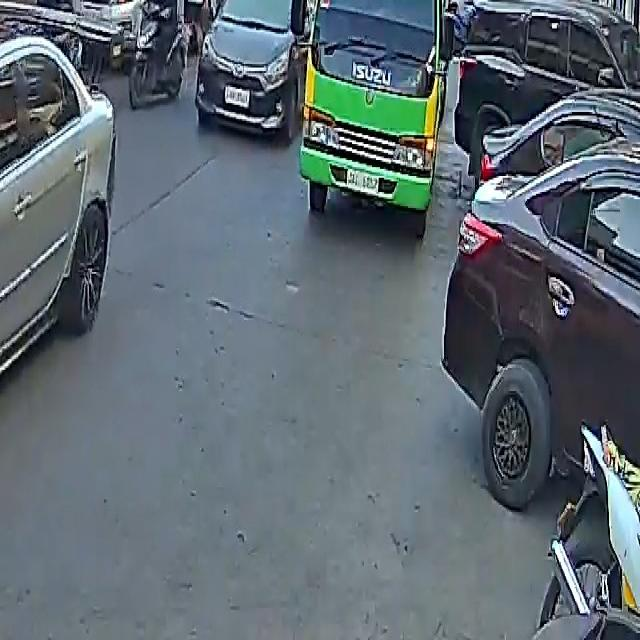car: (443, 70, 640, 525), (0, 16, 132, 546), (442, 0, 639, 192), (194, 0, 317, 140), (67, 0, 191, 55)
